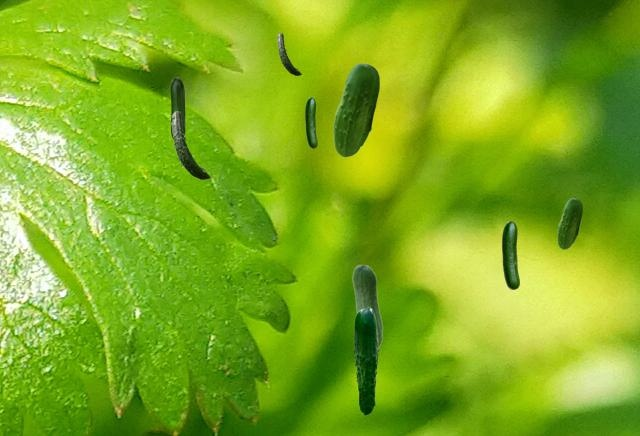cucumber: (333, 63, 378, 156), (353, 307, 378, 414), (171, 111, 209, 178), (352, 264, 382, 347), (557, 198, 581, 248), (502, 221, 518, 288), (277, 33, 300, 74), (170, 77, 184, 139), (305, 97, 316, 147)
